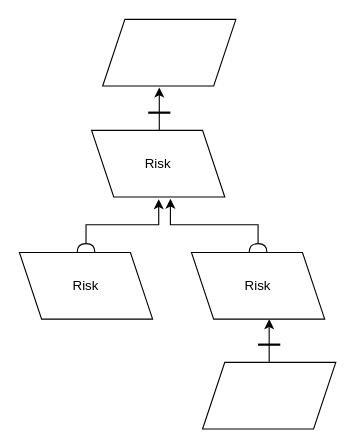
Some shapes in this 355 by 448 pixel diagram are drawn without their labels. Each missing label, with the centre of its shape:
"Main Goal" belongs at (x=169, y=52).
"Solution" belongs at (x=268, y=395).
